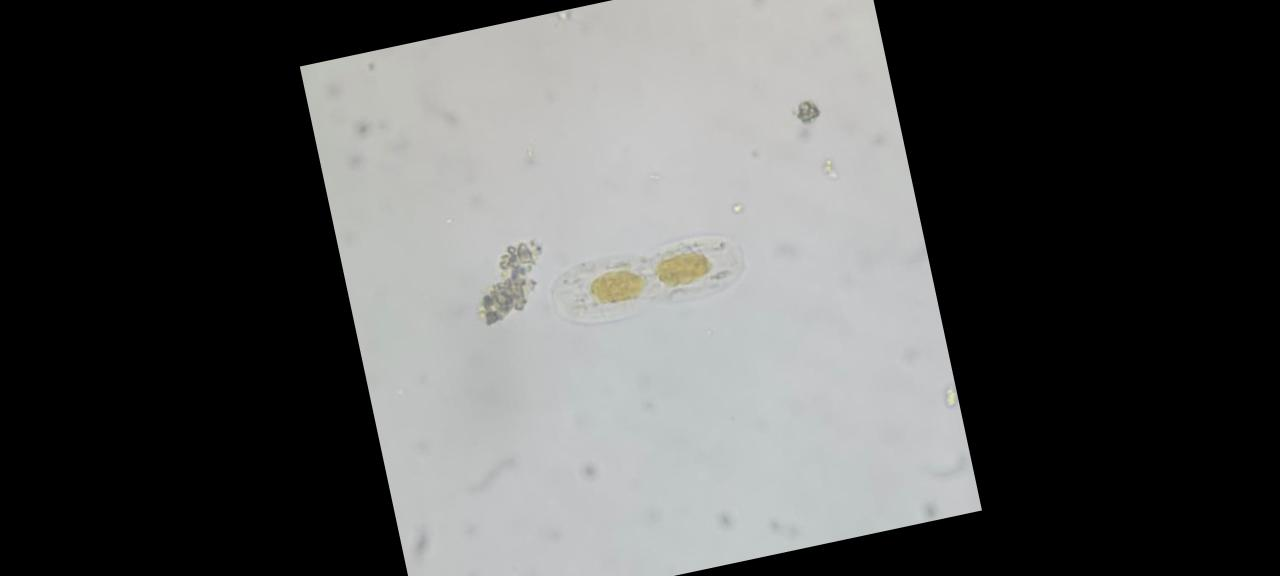Euglena: (534, 214, 758, 342)
